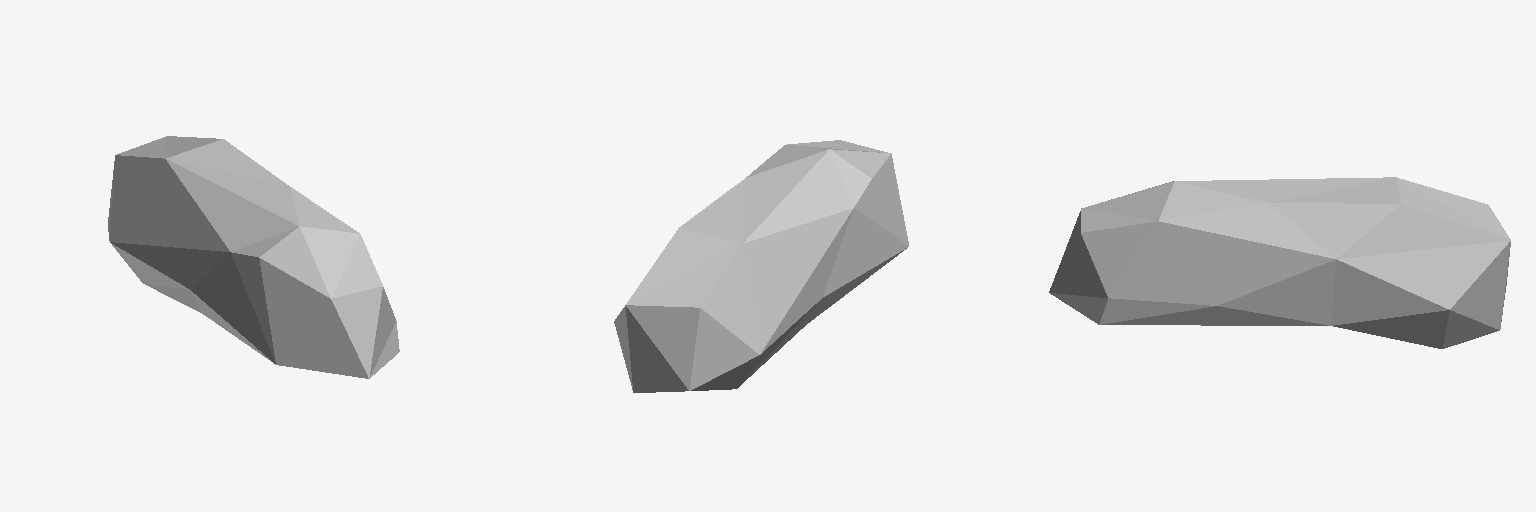
The model's file is sim_ecub_1-1_l_hand_middle_2.obj.
3 views of the same model, side by side, from view 1: azimuth 30°, elevation 25°; view 2: azimuth 150°, elevation 25°; view 3: azimuth 270°, elevation 25° (orthographic).
Size of the model in its own units: 19 by 18.51 by 55.02.